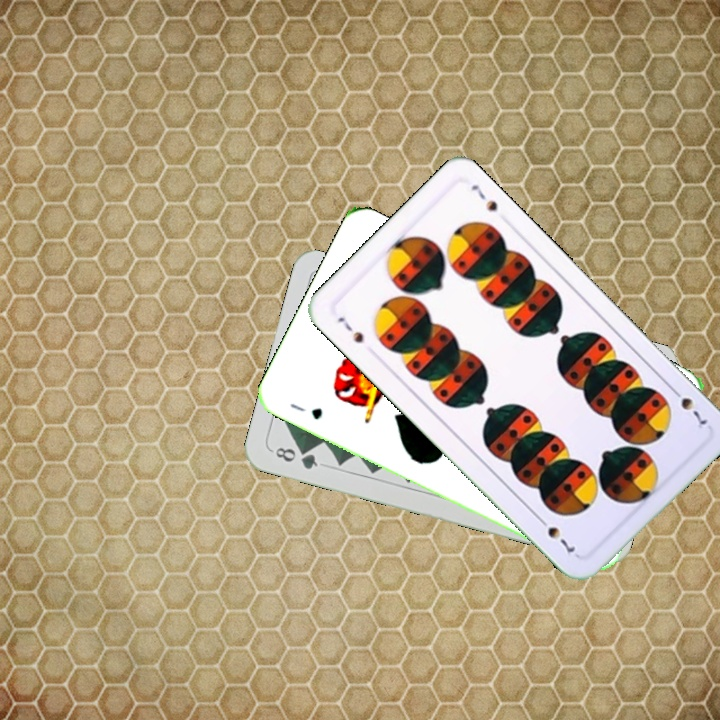G8: (268, 443, 321, 472)
GU: (286, 399, 325, 423)
S7: (666, 382, 710, 428), (333, 312, 366, 346)
